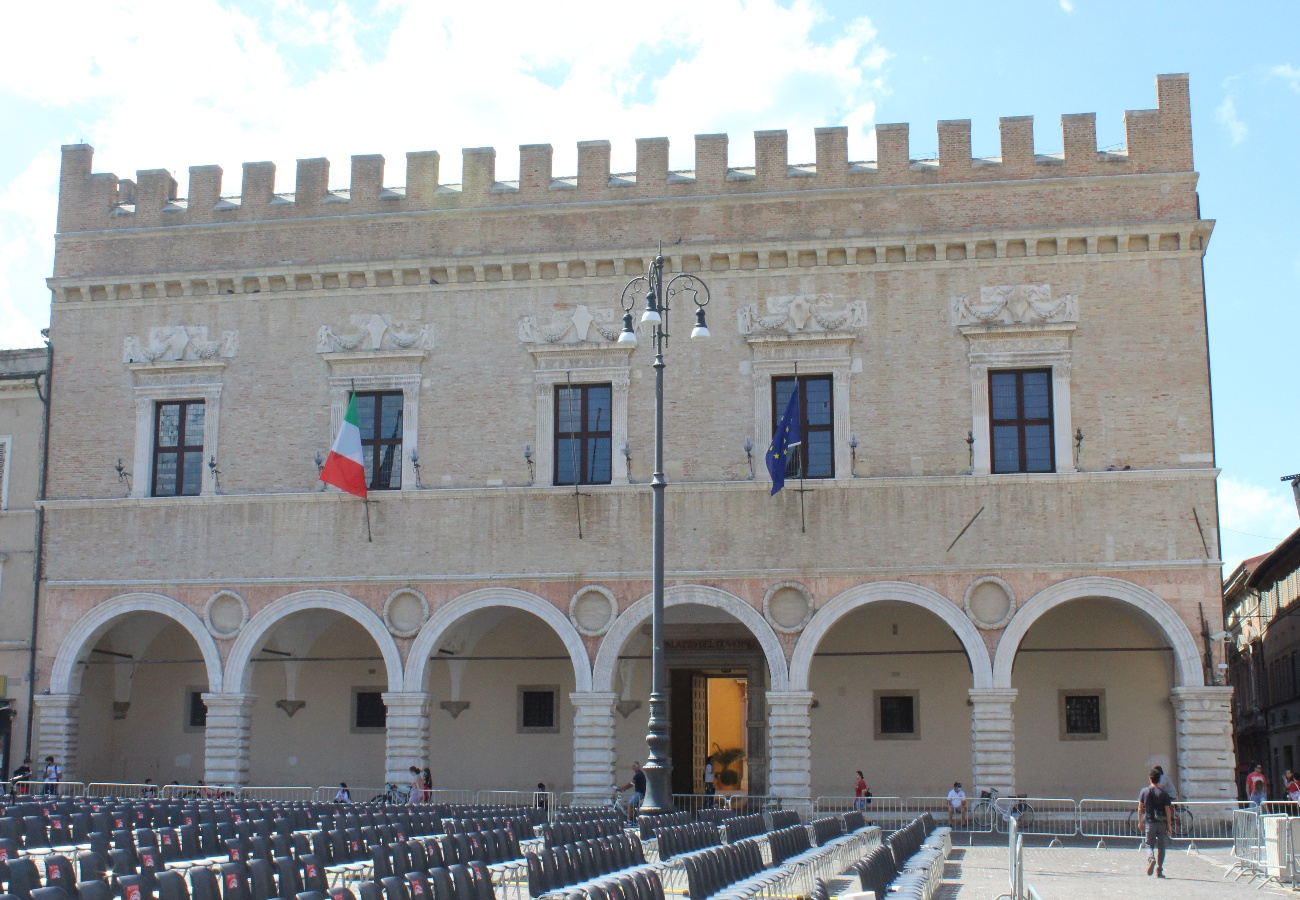Palazzo Ducale: (51, 70, 1235, 799)
